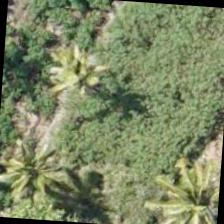Kelapa_Sawit: (0, 122, 80, 218), (151, 149, 222, 223)
